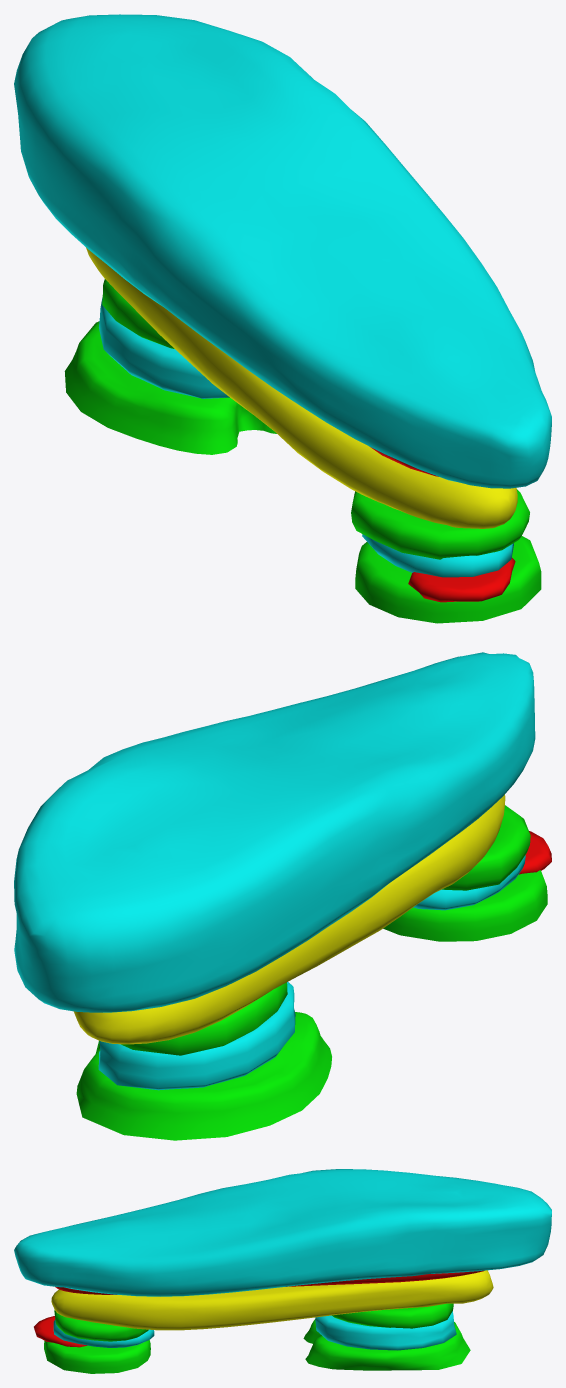
The model's file is rock5.fbx.
3 renders of one model, top to bottom at view 1: azimuth 30°, elevation 25°; view 2: azimuth 150°, elevation 25°; view 3: azimuth 270°, elevation 25°, orthographic. The views are drawn at different scales.
Visible parts, largest first — view 1: rock5:polySurface1; view 2: rock5:polySurface1; view 3: rock5:polySurface1.
Boxes of the visible parts, x1,y1,x2,y2 form: rock5:polySurface1: (14, 14, 551, 623); rock5:polySurface1: (14, 652, 551, 1140); rock5:polySurface1: (14, 1169, 551, 1373).
Size of the model in its own units: 1512 by 1659 by 4775.
